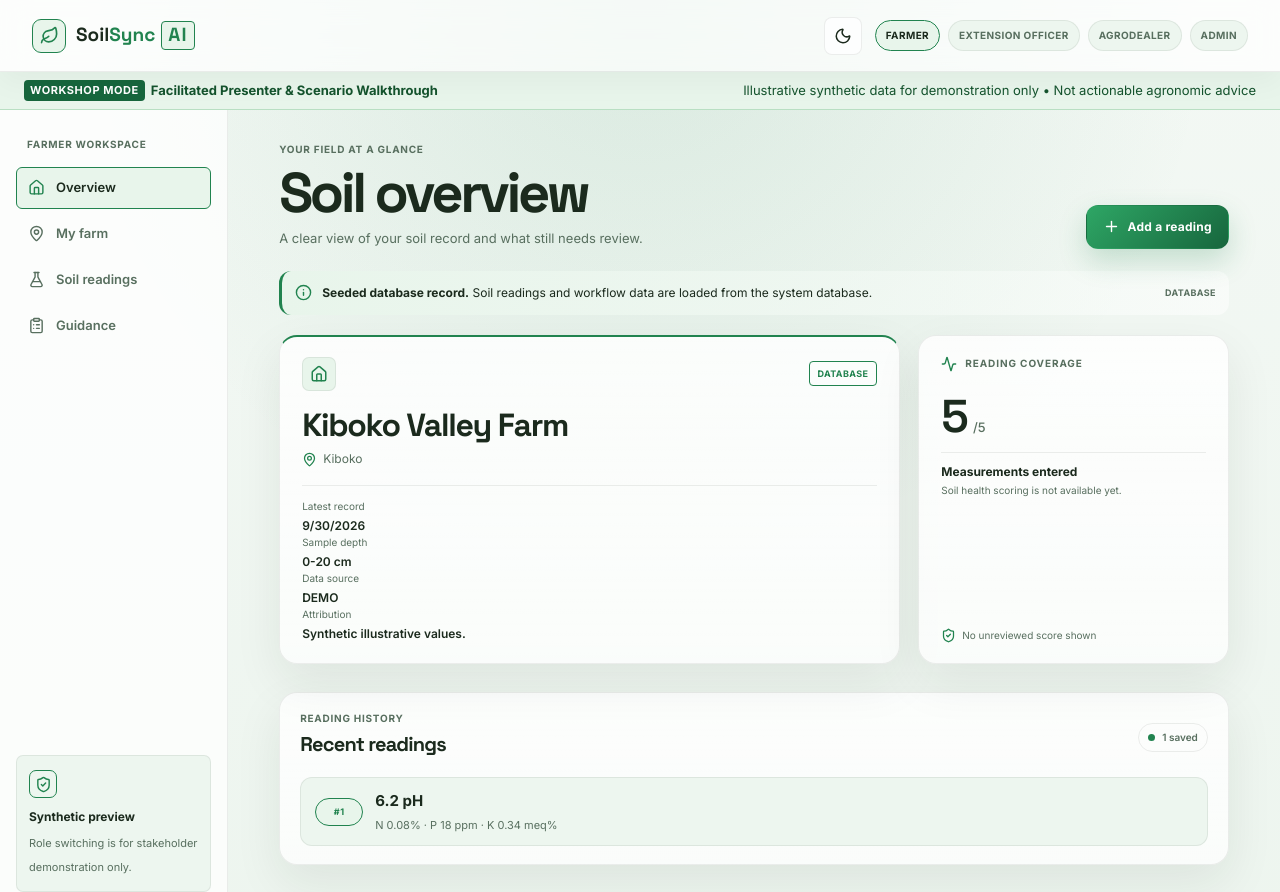
Test: farmer overview prototype › tracks recent local preview readings
Click the button "Add a reading" at (1157, 227), box [1086,205,1229,249]
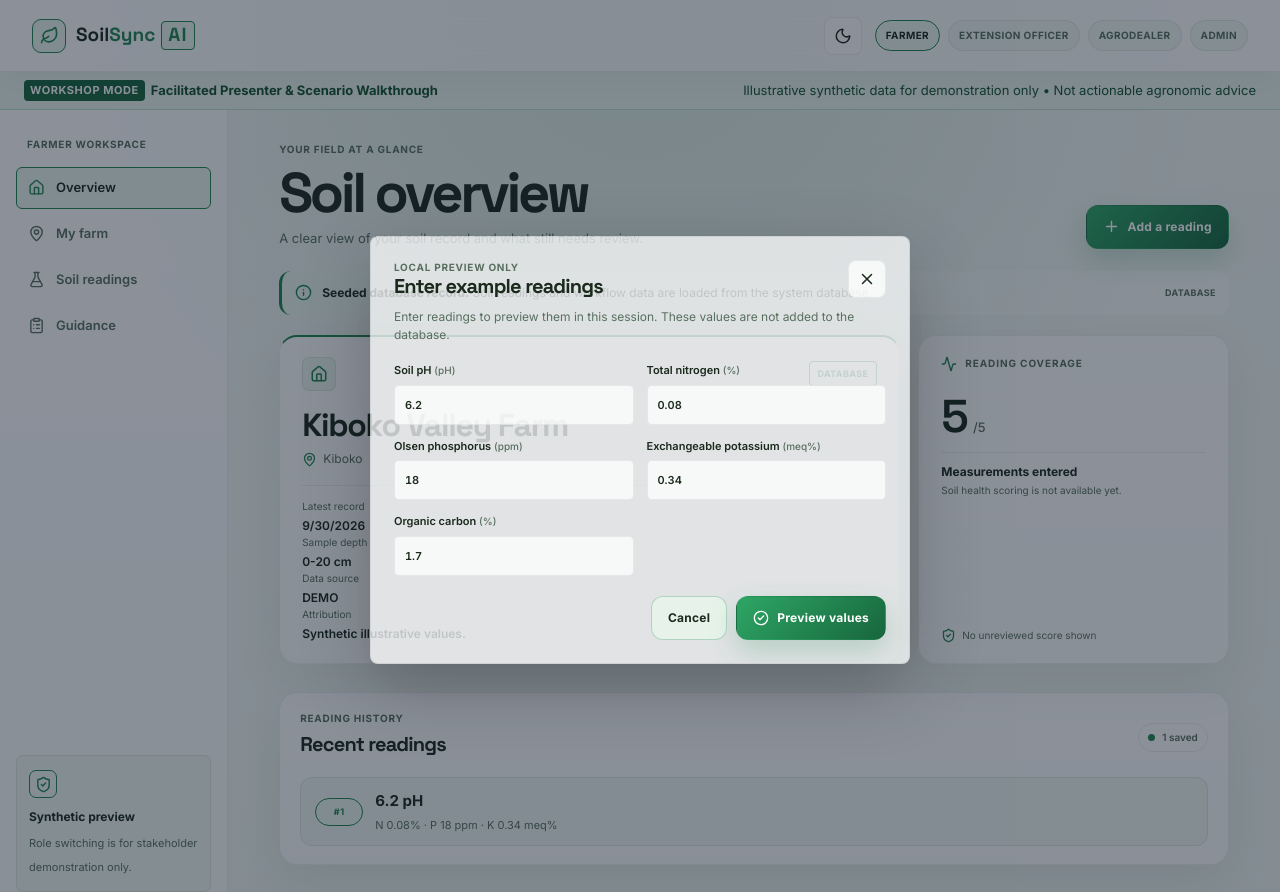
Replace the text in the number field labelled "Soil pH (pH)" with "5.4" at (514, 405), box [394,385,634,425]
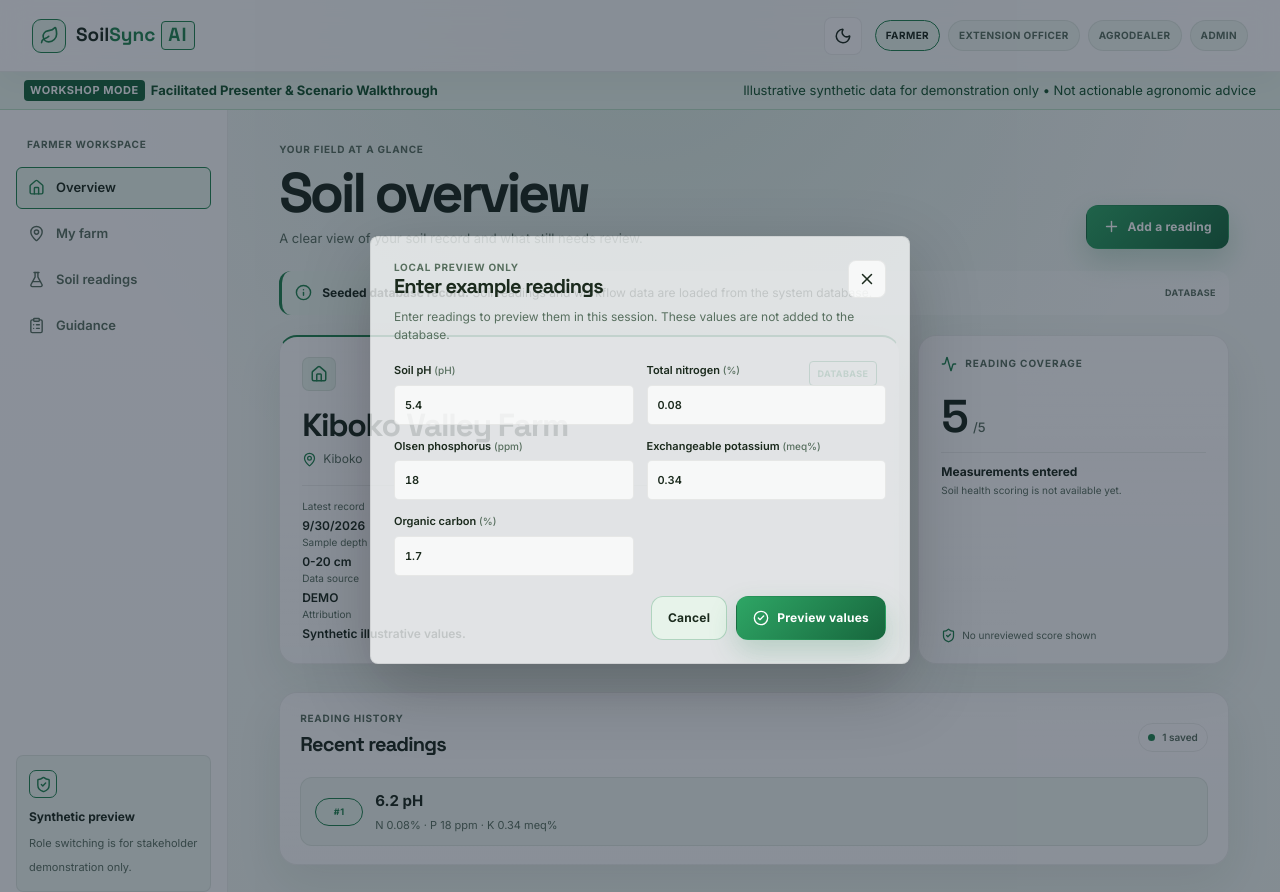
Click the button "Preview values" at (811, 618), box [736,596,886,640]
(page scrolled)
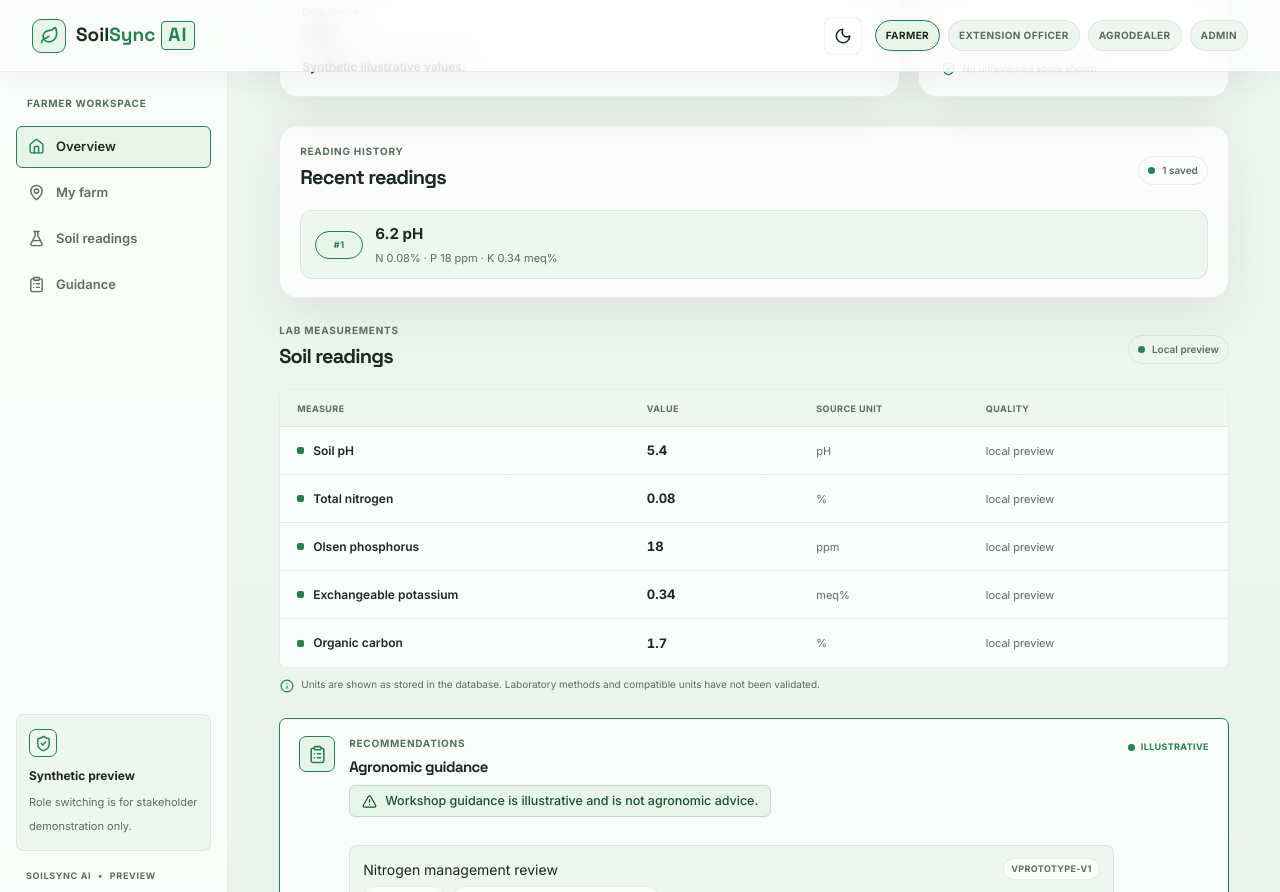
expect the heading "Recent readings" is shown: met, box [300,166,446,190]
expect the text "5.4" is shown: met, box [647,442,667,458]
